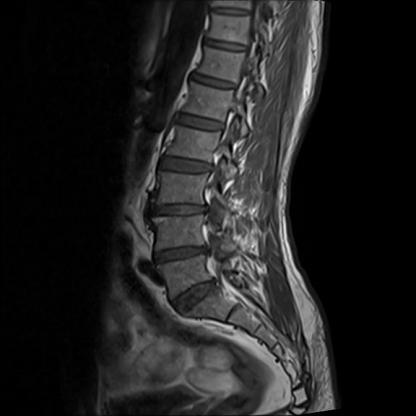Degenerative Disc Diseaserotation: (166, 284, 229, 312)
Disc Bulgerotation: (145, 197, 215, 224), (149, 242, 216, 269)
